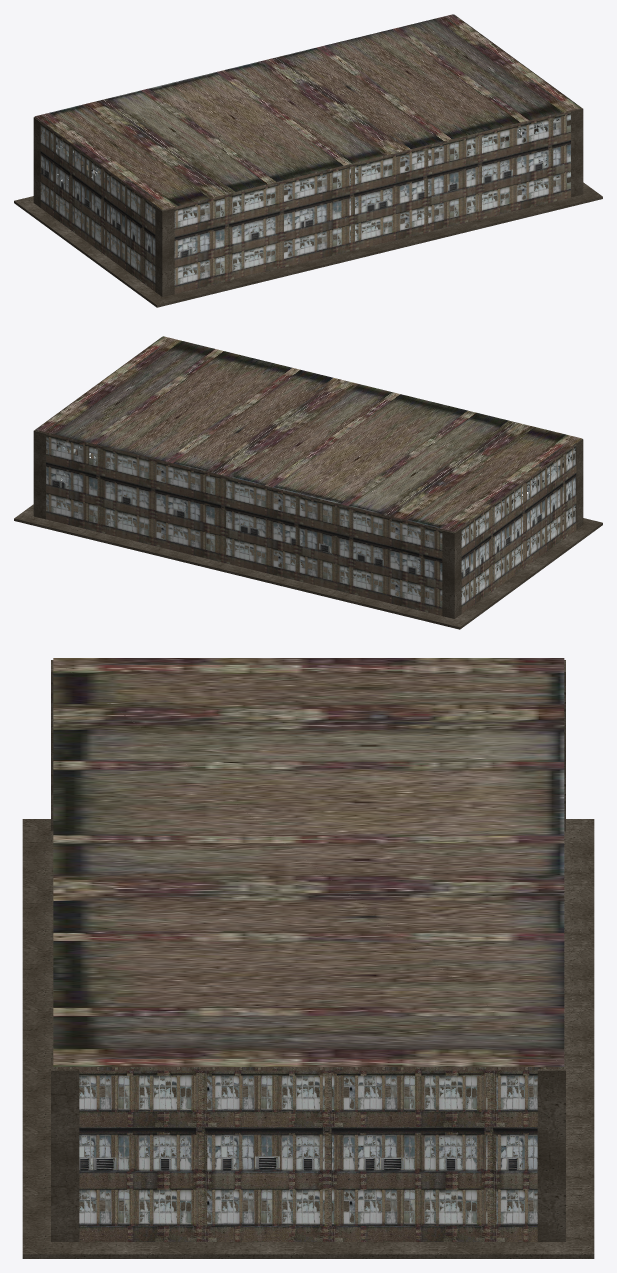
File: BagSS08base_100.fbx
The picture shows the model from 3 angles, top to bottom: view 1: azimuth 30°, elevation 25°; view 2: azimuth 150°, elevation 25°; view 3: azimuth 270°, elevation 25°; orthographic projection. The views are drawn at different scales.
Parts seen in each view (by area): view 1: BaseBox100, baseMain100, Basefloor100; view 2: BaseBox100, baseMain100, Basefloor100; view 3: BaseBox100, Basefloor100, baseMain100.
Boxes of the visible parts, bbox=[...] form: BaseBox100: bbox=[34, 14, 580, 285]; baseMain100: bbox=[40, 20, 575, 293]; Basefloor100: bbox=[14, 14, 602, 307]; BaseBox100: bbox=[35, 336, 582, 607]; baseMain100: bbox=[41, 342, 576, 615]; Basefloor100: bbox=[14, 336, 602, 629]; BaseBox100: bbox=[53, 658, 564, 1225]; Basefloor100: bbox=[22, 660, 594, 1258]; baseMain100: bbox=[79, 1070, 537, 1241].
Bounding box in the file's own units: 64.54 × 12.31 × 35.84.
